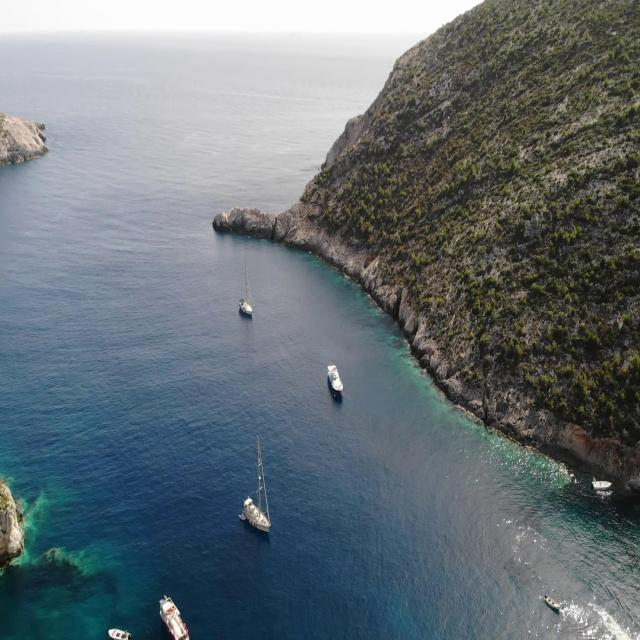boat: (158, 594, 191, 640), (326, 363, 345, 395), (590, 474, 612, 494), (543, 591, 561, 613), (108, 626, 132, 640), (239, 512, 246, 522)
sailboat: (243, 433, 272, 536), (239, 254, 253, 318)
